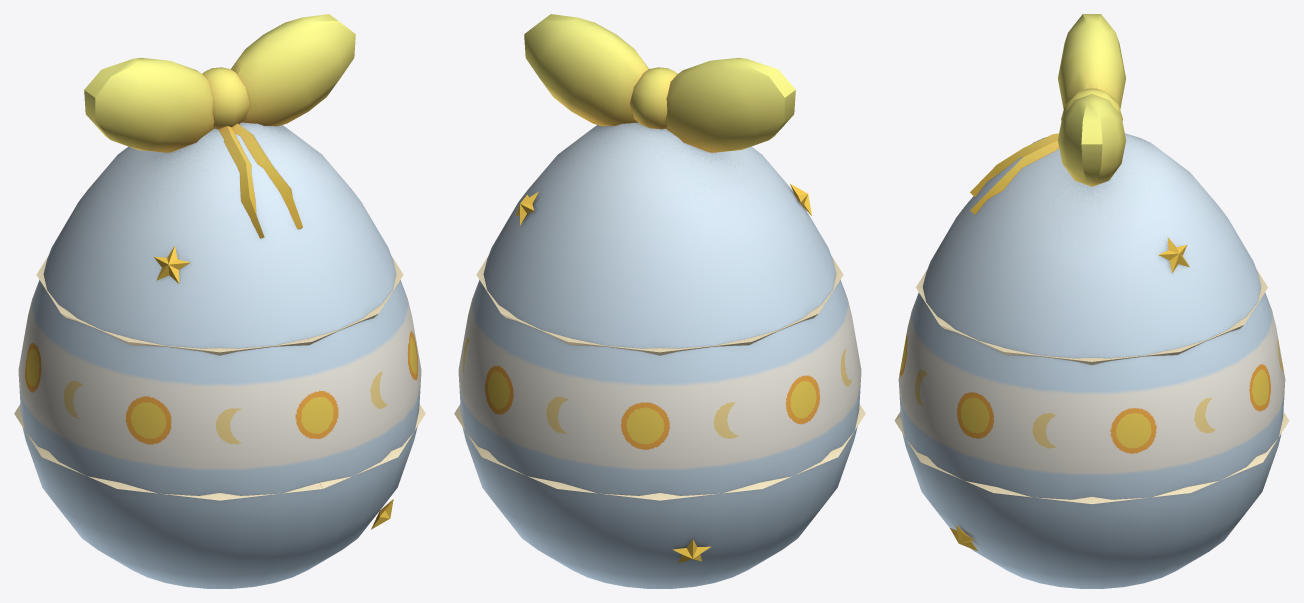
The model's file is egg_weekly.fbx.
The picture shows the model from 3 angles, left to right: view 1: azimuth 30°, elevation 25°; view 2: azimuth 150°, elevation 25°; view 3: azimuth 270°, elevation 25°; orthographic projection. The views are drawn at different scales.
Parts seen in each view (by area): view 1: egg_weekly; view 2: egg_weekly; view 3: egg_weekly.
Boxes of the visible parts, <box> form: egg_weekly: <box>14,14,425,588</box>; egg_weekly: <box>454,14,865,588</box>; egg_weekly: <box>894,14,1289,588</box>.
Size of the model in its own units: 216 by 306 by 216.
1 material, 1 textured.
